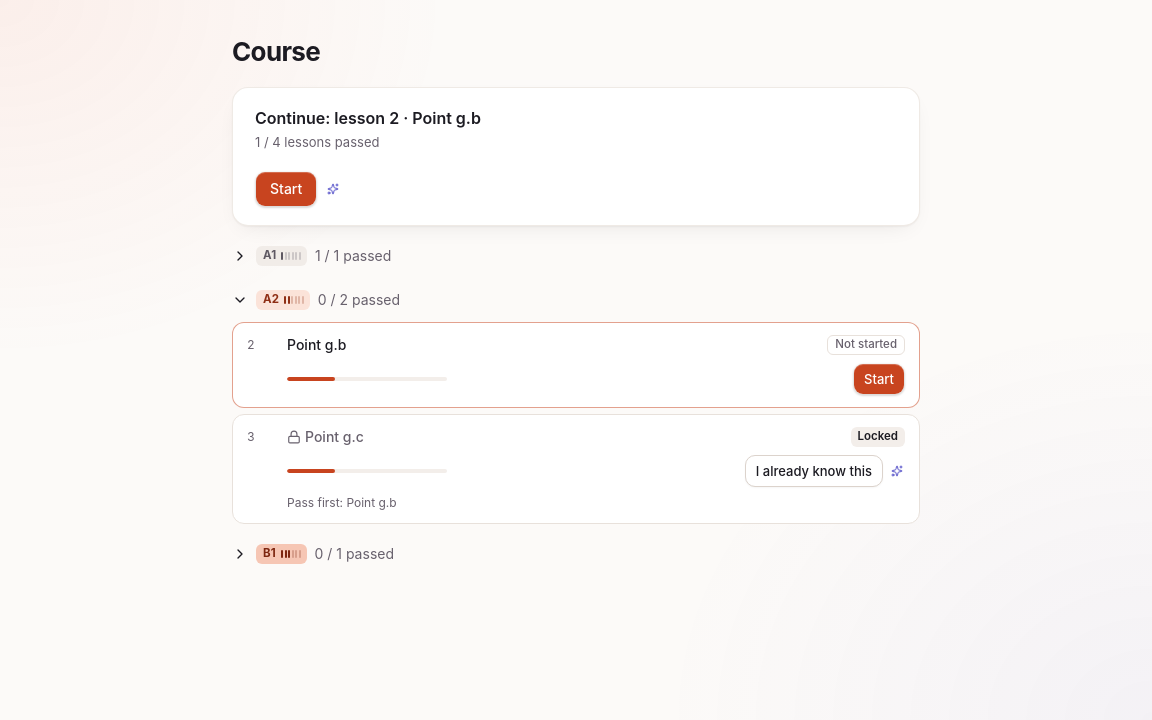
Scenario: CourseApp › folds and unfolds a level, and labels passed lessons for another go
The width and height of the screenshot is (1152, 720).
Click the button "A1 1 / 1 passed": {"x": 281, "y": 256} [232,242,920,270]
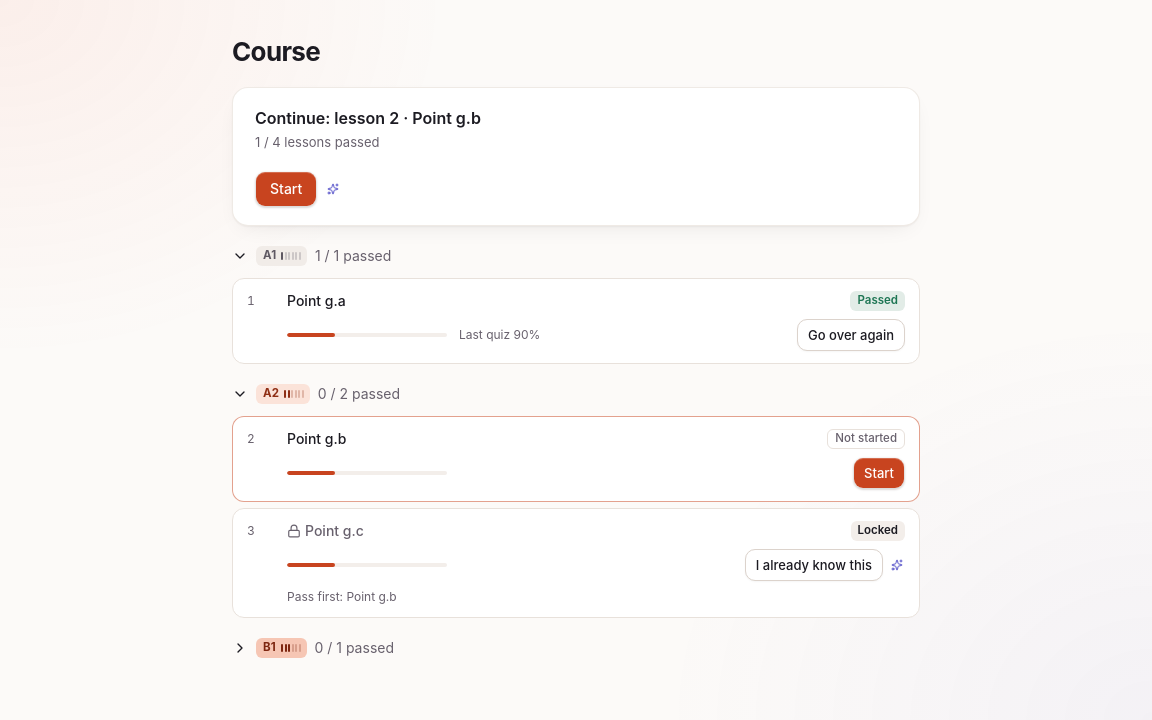
Check: the list item with test id "course-lesson" shows "Passed", box [858,293,898,307]
Check: the list item with test id "course-lesson" shows "Last quiz 90%", box [459,327,540,342]
Check: the button "Go over again" is shown, box [797,319,905,351]
